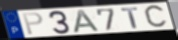3: (48, 10, 71, 35)
7: (95, 7, 116, 31)
A: (73, 9, 102, 33)
C: (143, 3, 169, 30)
P: (22, 11, 45, 36)
T: (120, 6, 140, 29)
